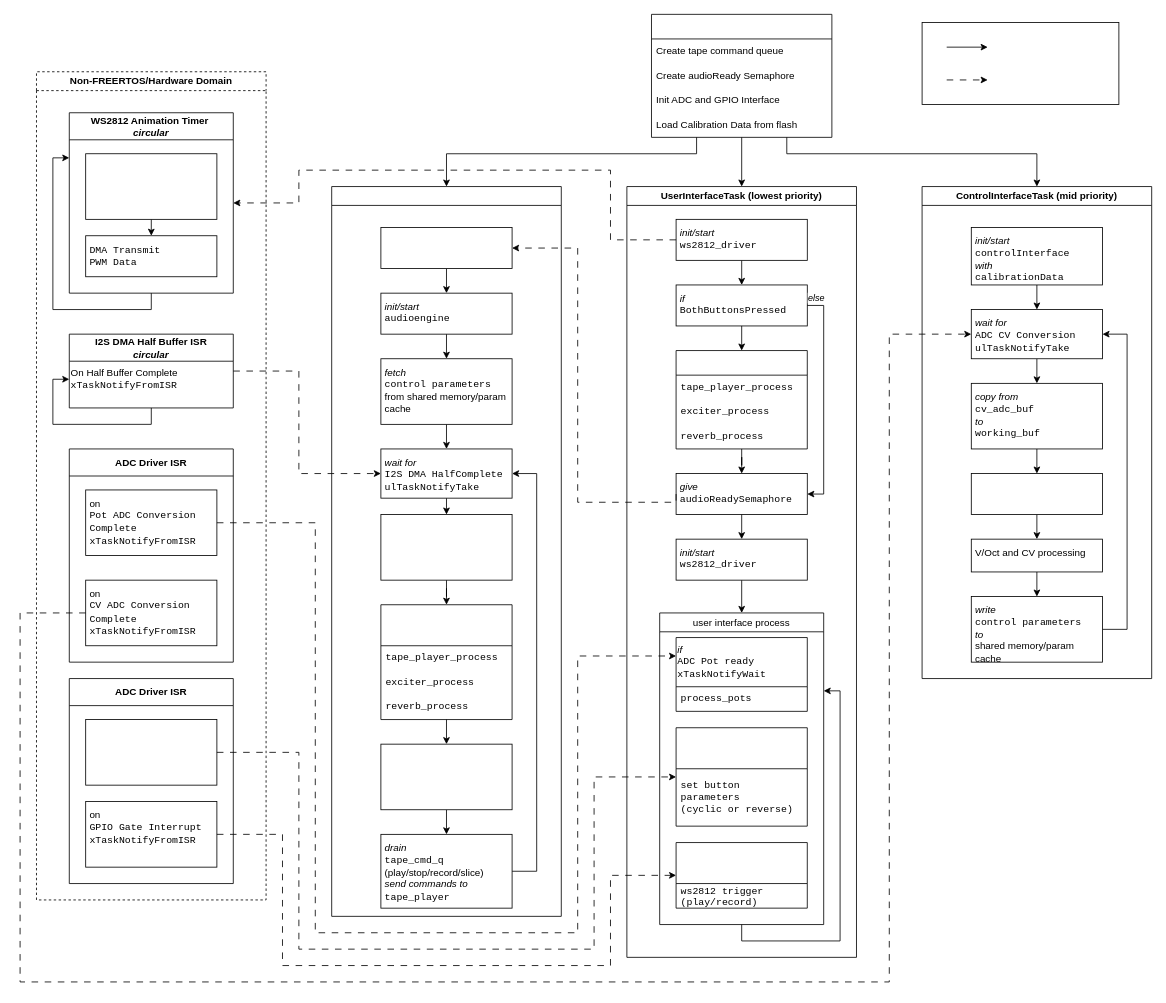
Image size: 1166x1003. Some labels were removed from this diagram. The shapes that lost their labels are listed below. From the top down, each one's box as (x1, y1, x2, y2) in pixels, then its label:
(651, 14, 832, 137): FREERTOS_Init
(921, 22, 1119, 105): Task /Execution Flow Intertask Communication /Signal
(85, 153, 217, 219): for each LED Write to PWM buffer depending on animation/LED state
(380, 227, 512, 269): wait for audioReadySemaphore
(675, 350, 807, 449): CalibrationRoutine
(970, 473, 1102, 515): normalize working_buf
(380, 514, 512, 580): copy from dma_in_buf to working_buf
(331, 186, 561, 916): AudioTask (highest priority)
(380, 604, 512, 720): Process Half Block on working_buf
(85, 719, 217, 785): on GPIO Button Interrupt xTaskNotifyFromISR
(380, 743, 512, 810): copy from working_buf to dma_out_buf
(675, 727, 807, 826): if GPIO Button Interrupt xTaskNotifyWait
(675, 842, 807, 908): if GPIO Gate Interrupt xTaskNotifyWait
